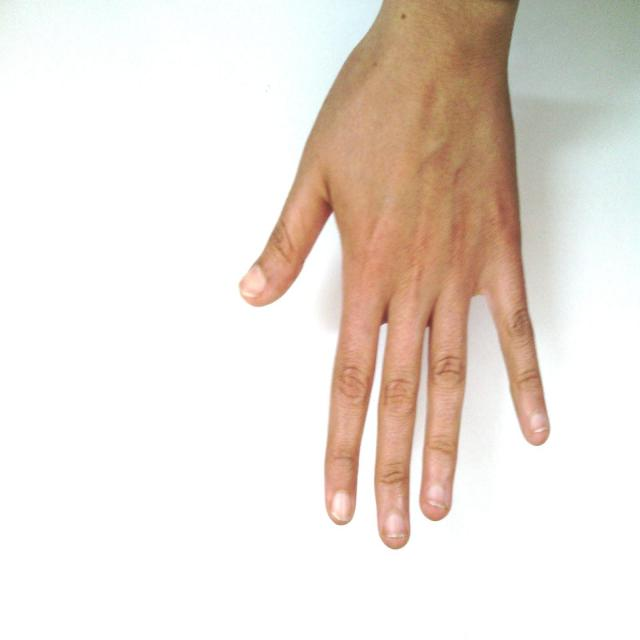others: (217, 0, 590, 549)
